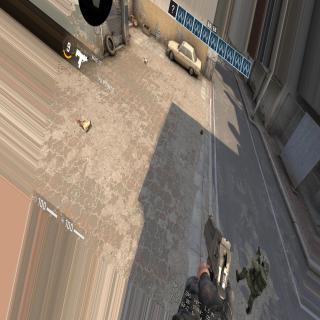CT-Head: (246, 249, 270, 304), (262, 255, 271, 272)
